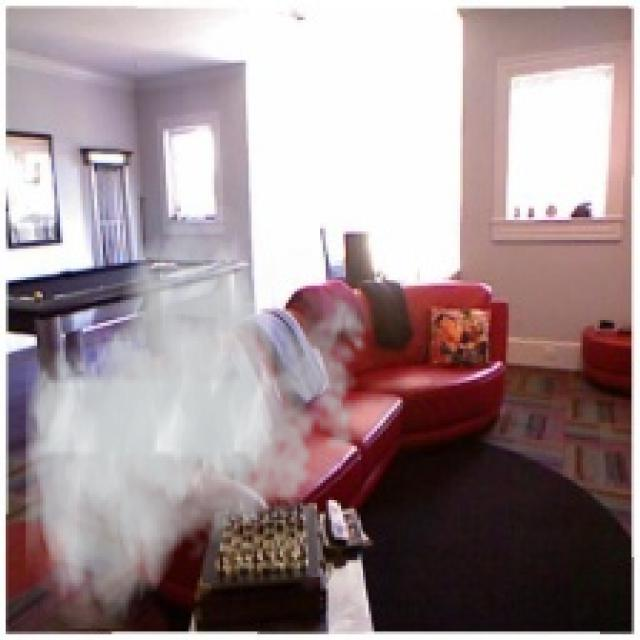smoke: (26, 206, 377, 628)
